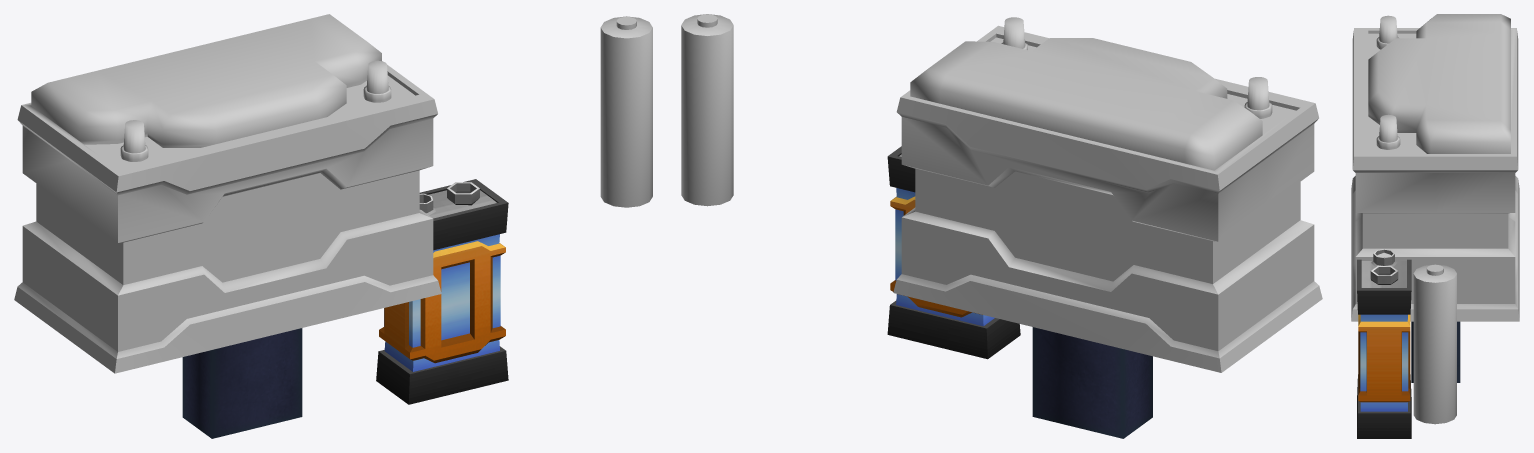
The model's file is Item_V9_Ver2 (1).fbx.
The picture shows the model from 3 angles, left to right: view 1: azimuth 30°, elevation 25°; view 2: azimuth 150°, elevation 25°; view 3: azimuth 270°, elevation 25°; orthographic projection. The views are drawn at different scales.
Visible parts, largest first — view 1: Car_Battery_low, V9_Battery_low, V9_Battery_low.001, Regular_Battery_low; view 2: Car_Battery_low, V9_Battery_low.001, Regular_Battery_low, V9_Battery_low; view 3: Car_Battery_low, V9_Battery_low, Regular_Battery_low, V9_Battery_low.001.
Boxes of the visible parts, <box> form: Car_Battery_low: <box>14,14,441,373</box>; V9_Battery_low: <box>376,179,508,404</box>; V9_Battery_low.001: <box>182,328,302,438</box>; Regular_Battery_low: <box>600,16,652,207</box>; Car_Battery_low: <box>893,17,1322,372</box>; V9_Battery_low.001: <box>1032,327,1152,438</box>; Regular_Battery_low: <box>681,14,733,206</box>; V9_Battery_low: <box>887,146,1020,359</box>; Car_Battery_low: <box>1351,14,1519,321</box>; V9_Battery_low: <box>1357,249,1411,438</box>; Regular_Battery_low: <box>1413,264,1456,424</box>; V9_Battery_low.001: <box>1411,321,1460,382</box>.
Size of the model in its own units: 319 by 181 by 95.07.
